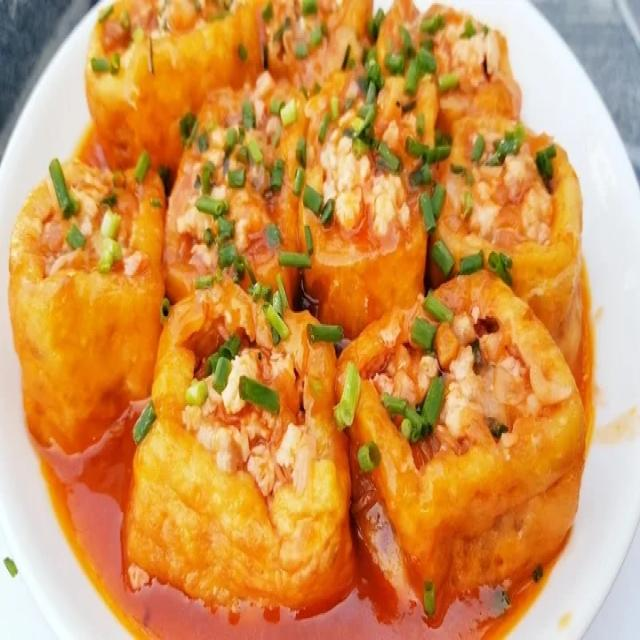dau hu: (9, 0, 592, 638)
